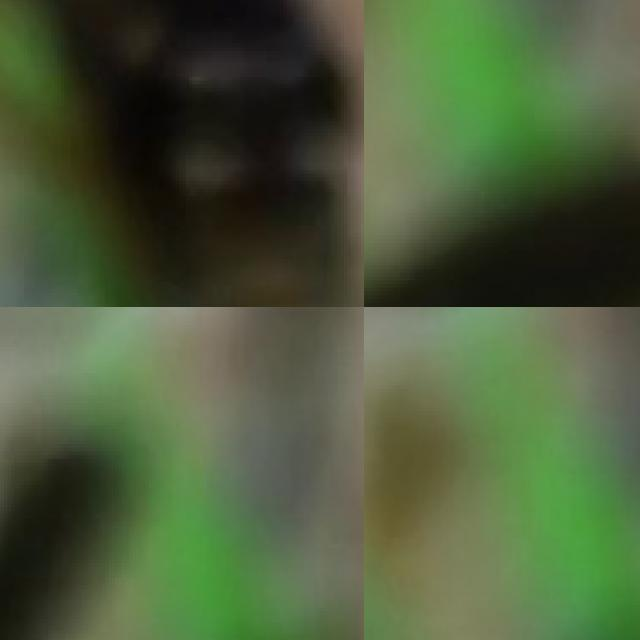fish: (0, 0, 364, 307), (364, 127, 640, 307)
